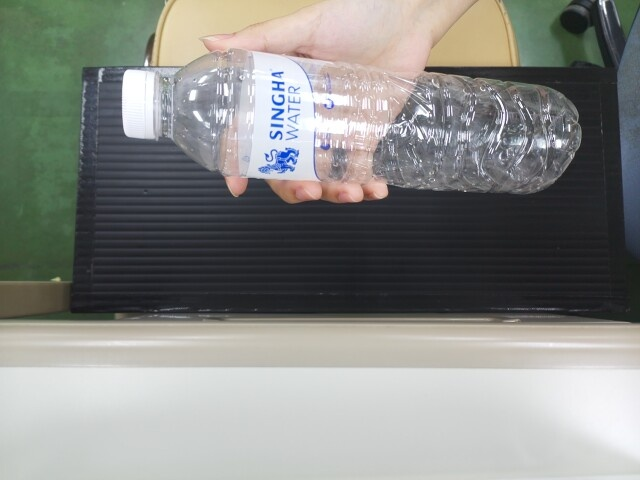plastic_bottle: (126, 44, 569, 193)
